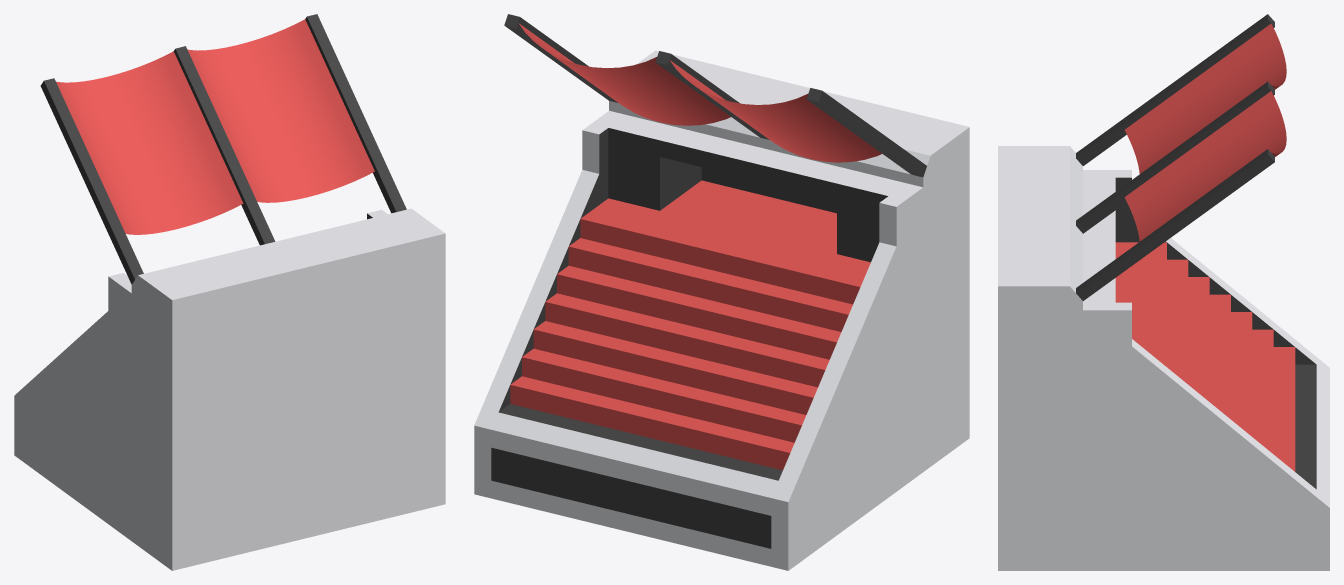
Rendered from grandStandAwning_exclusive.fbx.
3 views of the same model, side by side, from view 1: azimuth 30°, elevation 25°; view 2: azimuth 150°, elevation 25°; view 3: azimuth 270°, elevation 25° (orthographic). The views are drawn at different scales.
Visible parts, largest first — view 1: grandStandAwning_exclusive; view 2: grandStandAwning_exclusive; view 3: grandStandAwning_exclusive.
Boxes of the visible parts, x1,y1,x2,y2 form: grandStandAwning_exclusive: (14,14,445,570); grandStandAwning_exclusive: (474,14,969,570); grandStandAwning_exclusive: (998,14,1329,570).
Bounding box in the file's own units: 10 × 13.85 × 10.
